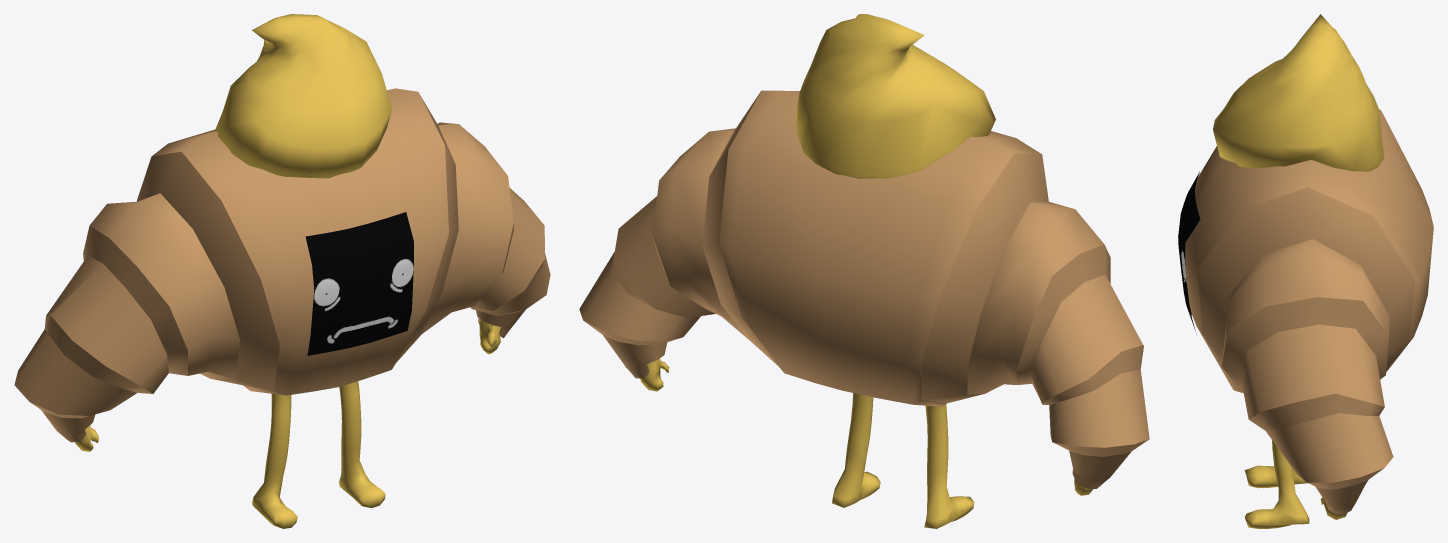
File: Croissant.fbx
3 views of the same model, side by side, from view 1: azimuth 30°, elevation 25°; view 2: azimuth 150°, elevation 25°; view 3: azimuth 270°, elevation 25° (orthographic). The views are drawn at different scales.
Parts seen in each view (by area): view 1: Croissant; view 2: Croissant; view 3: Croissant.
Boxes of the visible parts, left/top/right/bottom form: Croissant: left=14, top=14, right=550, bottom=528; Croissant: left=579, top=14, right=1149, bottom=528; Croissant: left=1178, top=14, right=1433, bottom=528.
Size of the model in its own units: 335 by 293 by 143.
